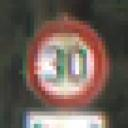speed_limit_30: (18, 15, 116, 107)
